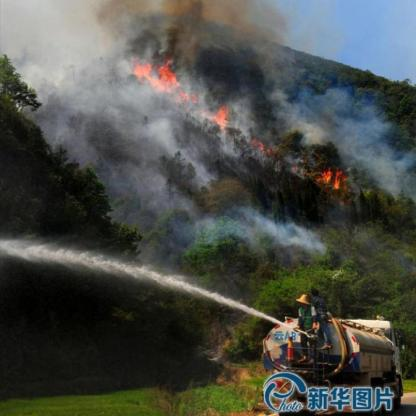fire: (133, 58, 233, 131), (250, 140, 350, 195)
